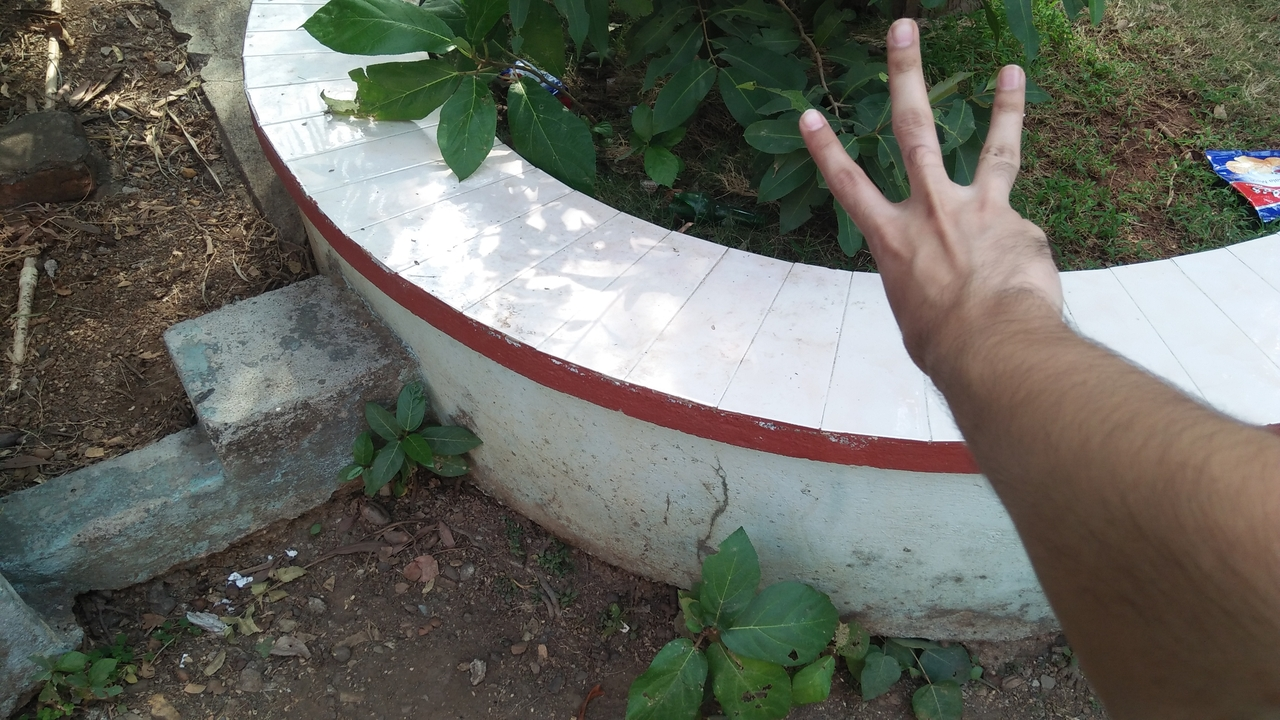fingertip: (792, 94, 844, 144), (886, 16, 926, 58), (994, 56, 1036, 94)
